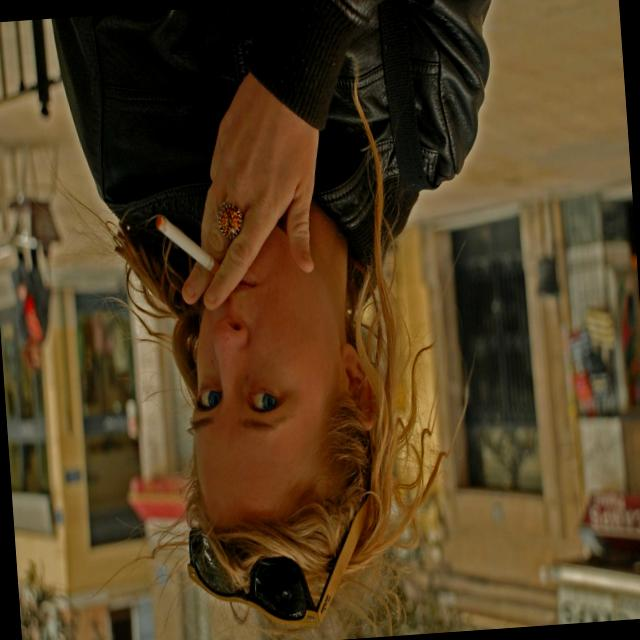cigarette: (142, 194, 222, 291)
